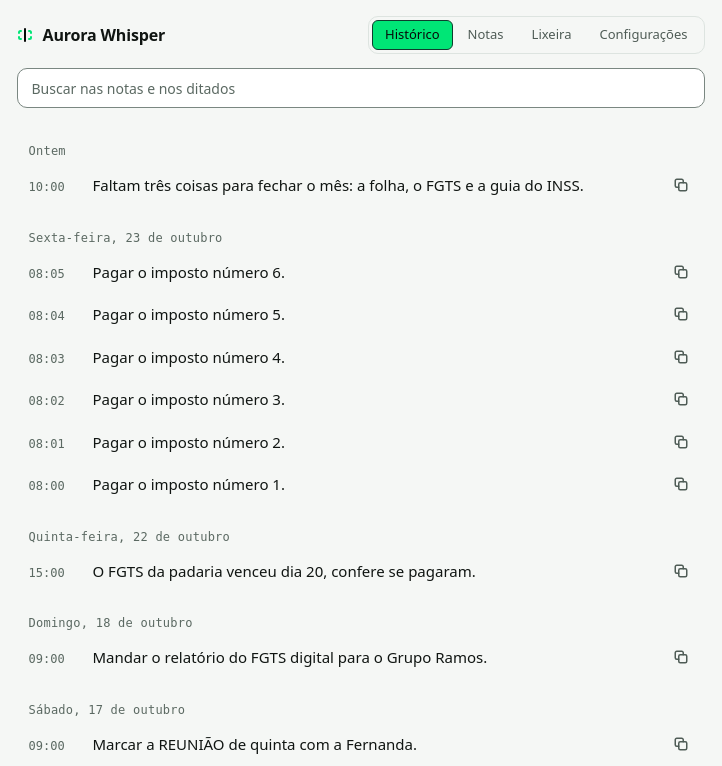
Test: os dois grupos › cada grupo mostra 5 e "Ver todas" / "Ver todos" diz quantas são
This screenshot has width=722, height=766.
In the search field labelled "Buscar nas notas e nos ditados": x=360, y=88 [16, 68, 704, 108], type "imposto"
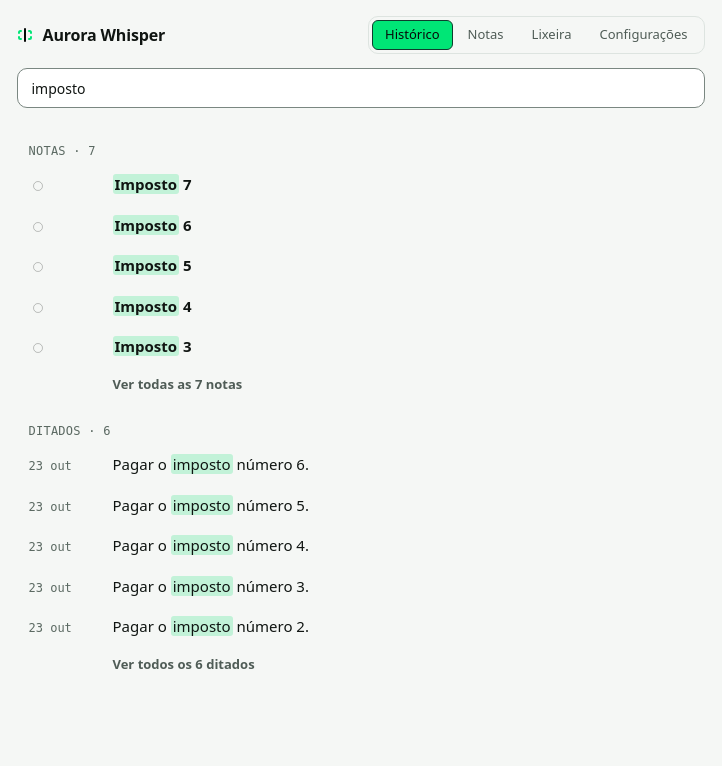
Expected: the heading "Notas · 7" is shown, [28, 144, 96, 158]
Expected: the button "Ver todas as 7 notas" is shown, [100, 368, 254, 400]
Expected: the button "Ver todos os 6 ditados" is shown, [100, 648, 267, 680]
